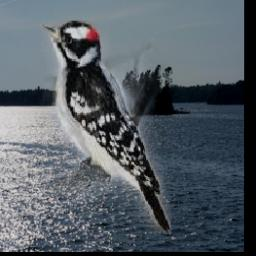Woodpecker: (41, 22, 172, 235)
